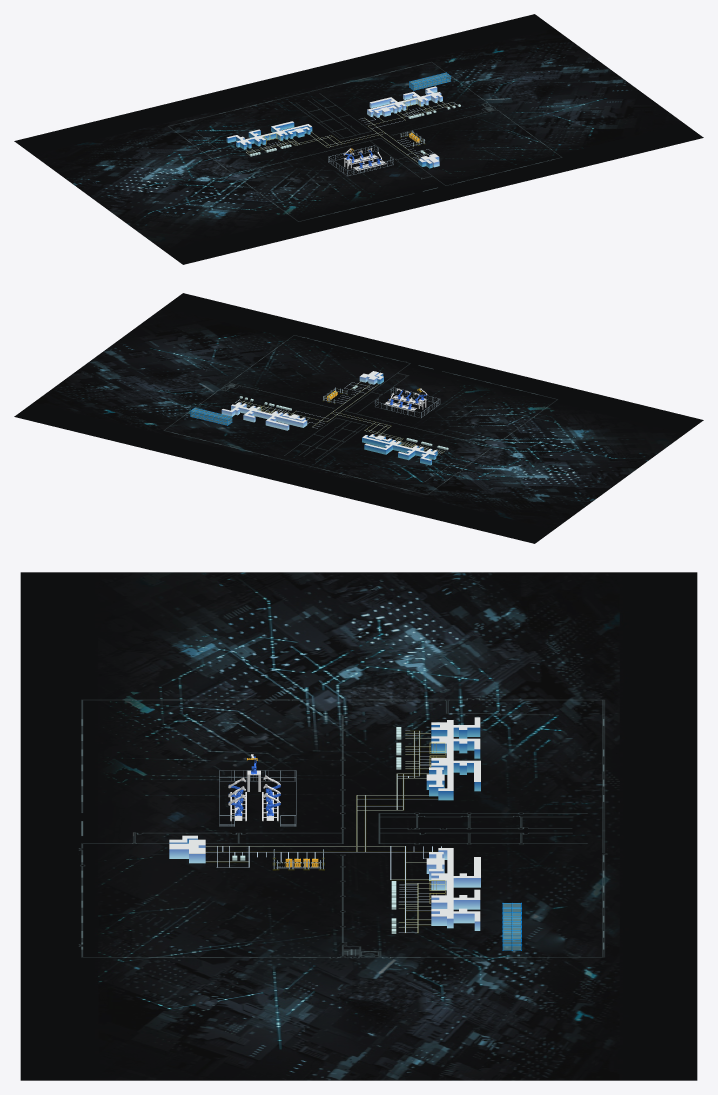
Rendered from plan.glb.
3 views of the same model, one above another, from view 1: azimuth 30°, elevation 25°; view 2: azimuth 150°, elevation 25°; view 3: azimuth 270°, elevation 25° (orthographic). The views are drawn at different scales.
Visible parts, largest first — view 1: model; view 2: model; view 3: model.
Part boxes in pixels (box(x1,y1,x2,y2)): model: box(14, 14, 703, 264); model: box(14, 293, 703, 543); model: box(20, 572, 697, 1080).
Bounding box in the file's own units: 689 × 24.01 × 388.
Materials: 16 (4 with a texture image).
